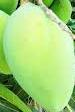Unripe: (1, 1, 75, 112)
